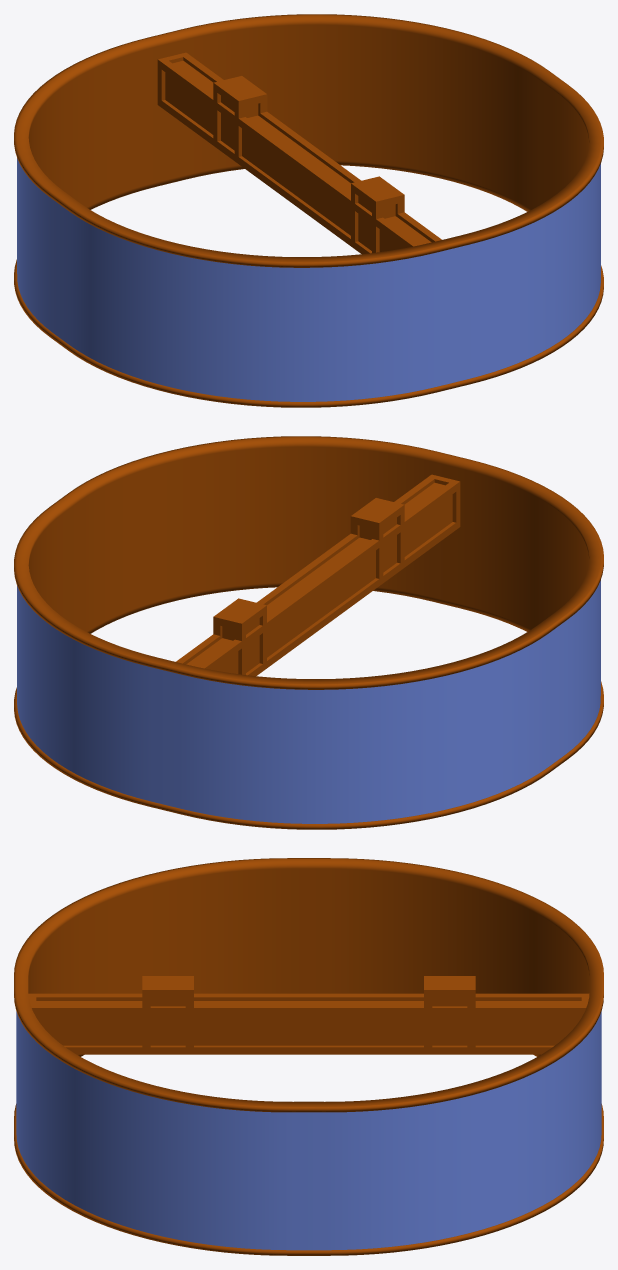
Rendered from ScreenCircular.fbx.
3 renders of one model, top to bottom at view 1: azimuth 30°, elevation 25°; view 2: azimuth 150°, elevation 25°; view 3: azimuth 270°, elevation 25°, orthographic. The views are drawn at different scales.
Visible parts, largest first — view 1: Flag_Pole, Flag_Flag; view 2: Flag_Pole, Flag_Flag; view 3: Flag_Pole, Flag_Flag.
Part boxes in pixels (x1,y1,x2,y2): Flag_Pole: (14,14,603,407); Flag_Flag: (17,158,600,401); Flag_Pole: (14,436,603,829); Flag_Flag: (17,580,600,823); Flag_Pole: (14,858,603,1255); Flag_Flag: (16,1011,601,1250).
Size of the model in its own units: 196 by 54.24 by 196.
